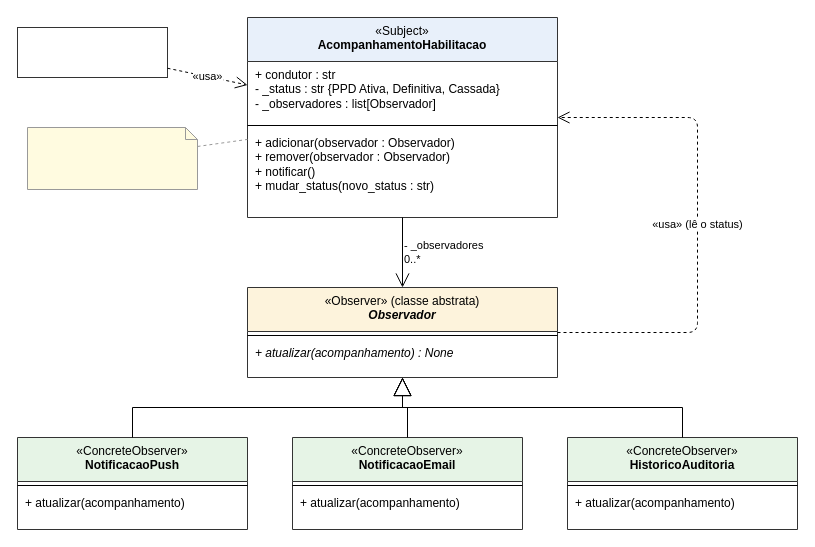
Some shapes in this 815 by 547 pixel diagram are drawn without their labels. The centre of each missing label's shape, as x and y in pixels:
"Client" goes at (92,52).
"for o in observadores: o.atualizar(self) notificar()" goes at (112,158).
